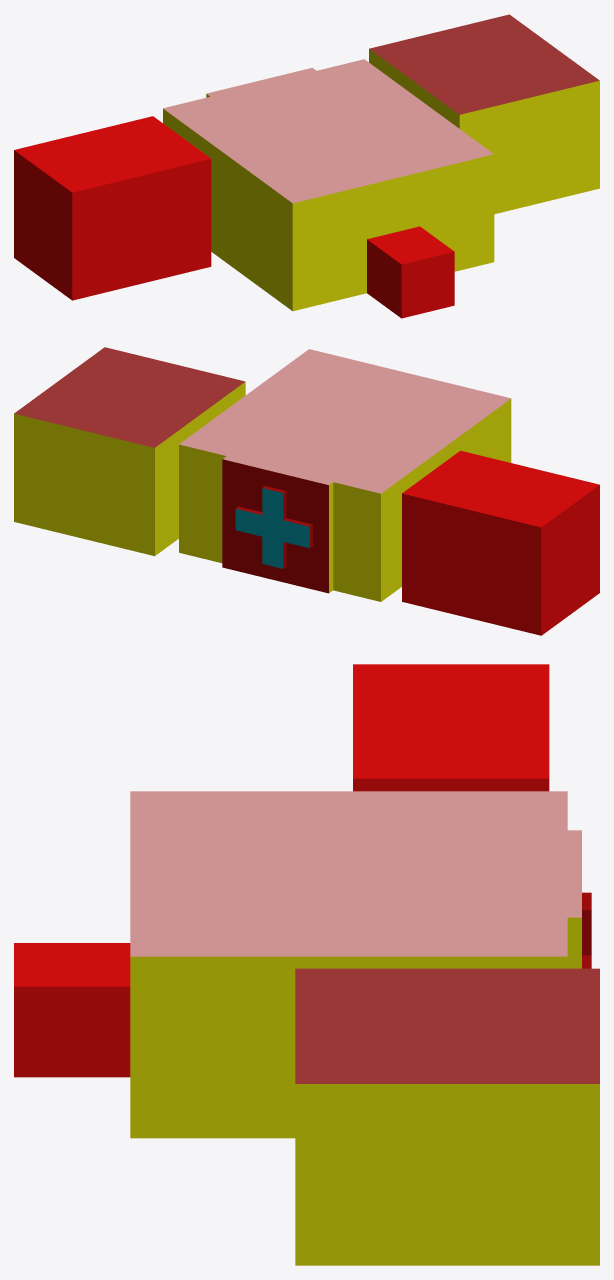
Rendered from IntroRoomsWithSetsOfUV.fbx.
The picture shows the model from 3 angles, top to bottom: view 1: azimuth 30°, elevation 25°; view 2: azimuth 150°, elevation 25°; view 3: azimuth 270°, elevation 25°; orthographic projection. The views are drawn at different scales.
Visible parts, largest first — view 1: IntrRooms; view 2: IntrRooms; view 3: IntrRooms.
Part boxes in pixels (x1=…): IntrRooms: x1=14, y1=14, x2=599, y2=318; IntrRooms: x1=14, y1=347, x2=599, y2=635; IntrRooms: x1=14, y1=664, x2=599, y2=1265.
Size of the model in its own units: 3994 by 807 by 2358.
